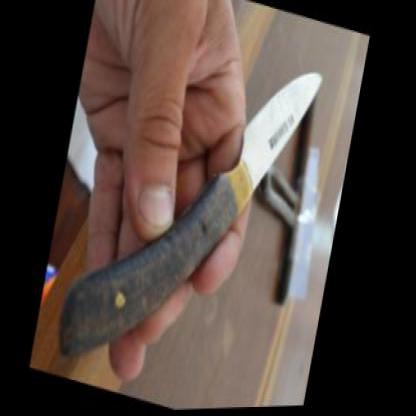knife: (54, 0, 335, 411)
